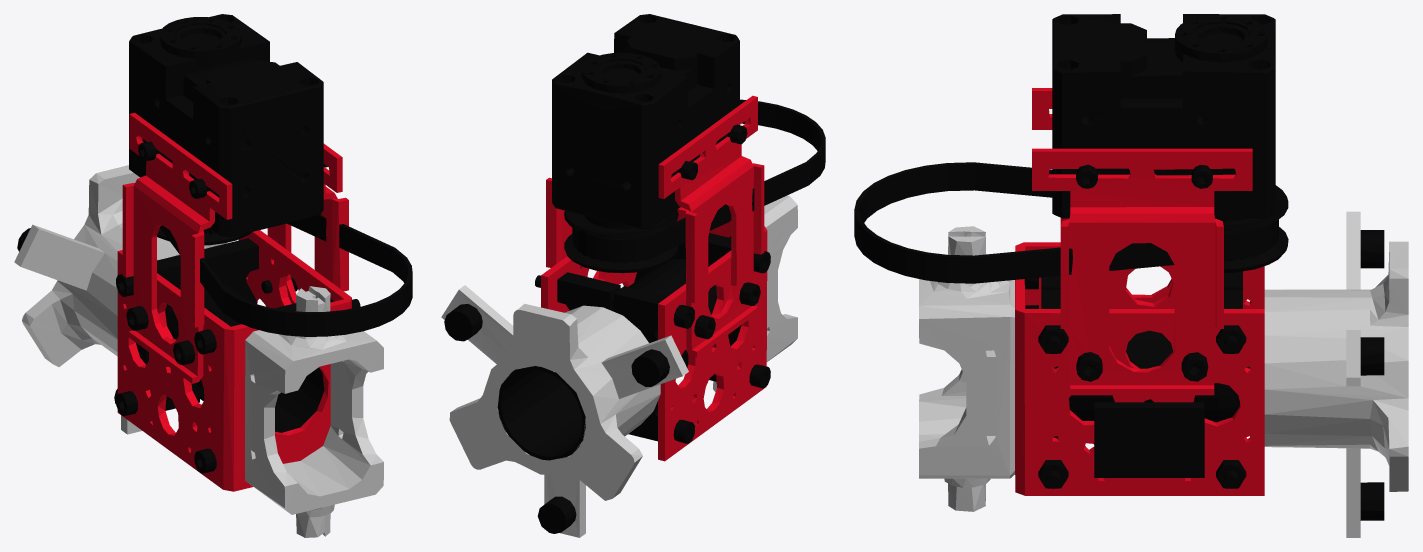
File: grapple_attachment_arm_side.dae
3 renders of one model, left to right at view 1: azimuth 30°, elevation 25°; view 2: azimuth 150°, elevation 25°; view 3: azimuth 270°, elevation 25°, orthographic. The views are drawn at different scales.
Visible parts, largest first — view 1: arm_side_black, arm_side_red, arm_side_grey; view 2: arm_side_black, arm_side_grey, arm_side_red; view 3: arm_side_black, arm_side_red, arm_side_grey.
Boxes of the visible parts, x1,y1,x2,y2 form: arm_side_black: (17, 14, 412, 473); arm_side_red: (117, 112, 351, 491); arm_side_grey: (14, 165, 383, 537); arm_side_black: (444, 14, 825, 533); arm_side_grey: (441, 195, 797, 537); arm_side_red: (541, 95, 767, 461); arm_side_black: (854, 14, 1384, 520); arm_side_red: (1015, 88, 1264, 495); arm_side_grey: (919, 211, 1408, 537).
Bounding box in the file's own units: 0.0682 × 0.1155 × 0.1136.
